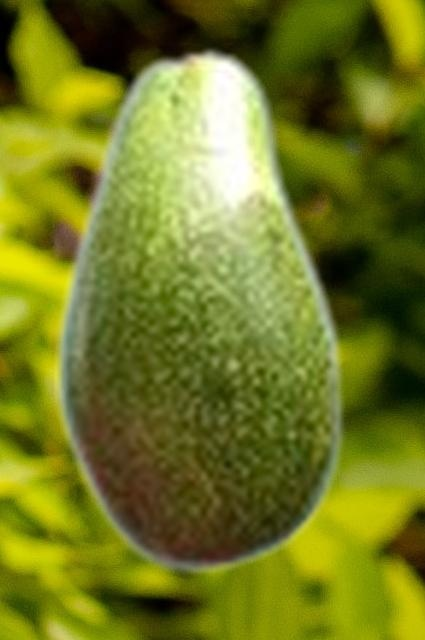avocado: (54, 43, 346, 578)
